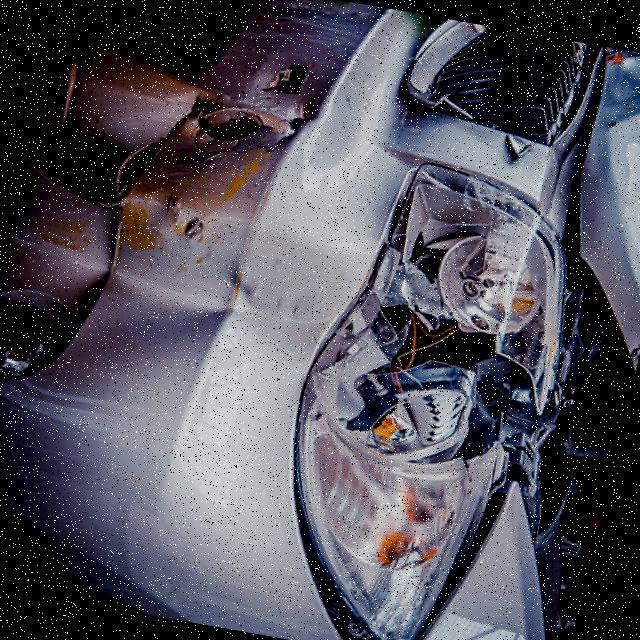Dent: (31, 166, 390, 481)
Head Light: (259, 113, 570, 640)
